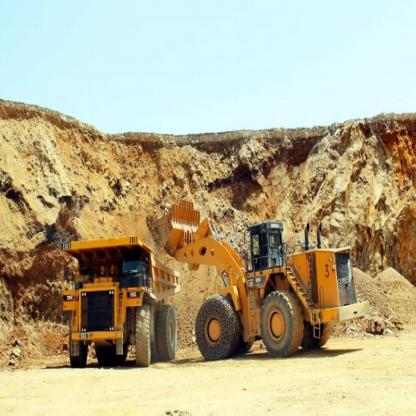bull_dozer/loader/grader: (144, 195, 374, 364)
dump_truck: (60, 228, 180, 378)
